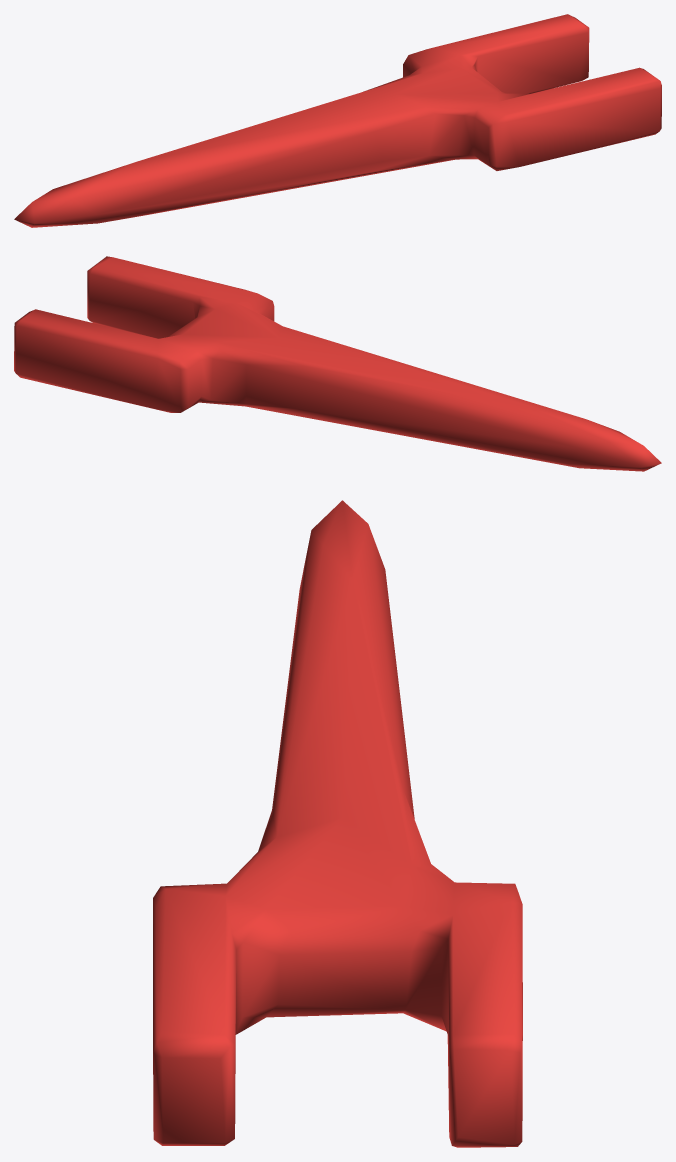
The model's file is antib.fbx.
3 renders of one model, top to bottom at view 1: azimuth 30°, elevation 25°; view 2: azimuth 150°, elevation 25°; view 3: azimuth 270°, elevation 25°, orthographic. The views are drawn at different scales.
Visible parts, largest first — view 1: Kocka.070; view 2: Kocka.070; view 3: Kocka.070.
Part boxes in pixels (x1=…): Kocka.070: x1=14, y1=14, x2=661, y2=227; Kocka.070: x1=14, y1=256, x2=661, y2=471; Kocka.070: x1=153, y1=500, x2=522, y2=1147.
Size of the model in its own units: 0.7746 by 0.2055 by 0.0779.
